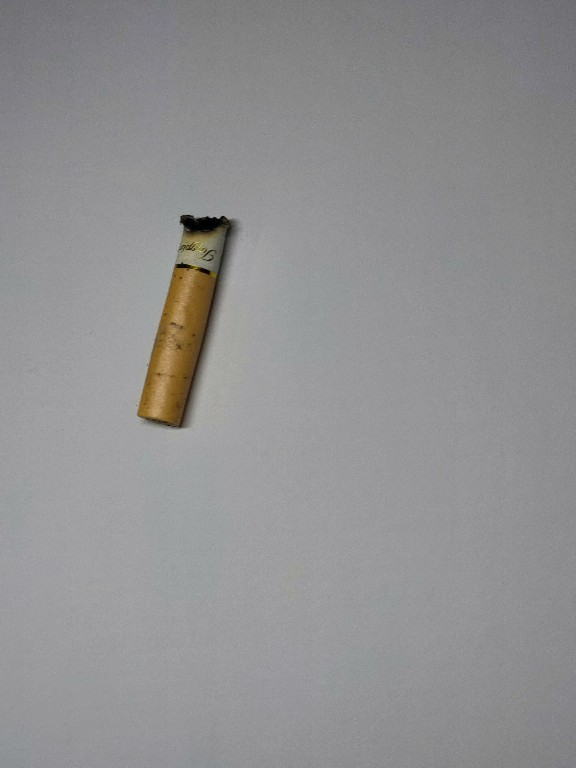cigarette: (133, 207, 233, 431)
